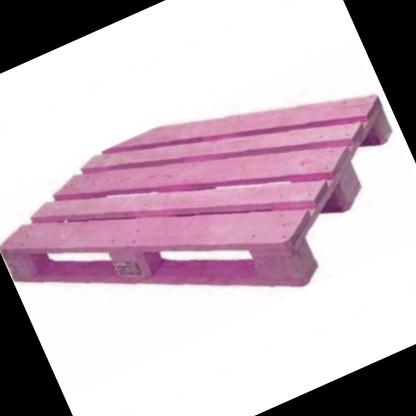BoxFace: (0, 89, 398, 295)
